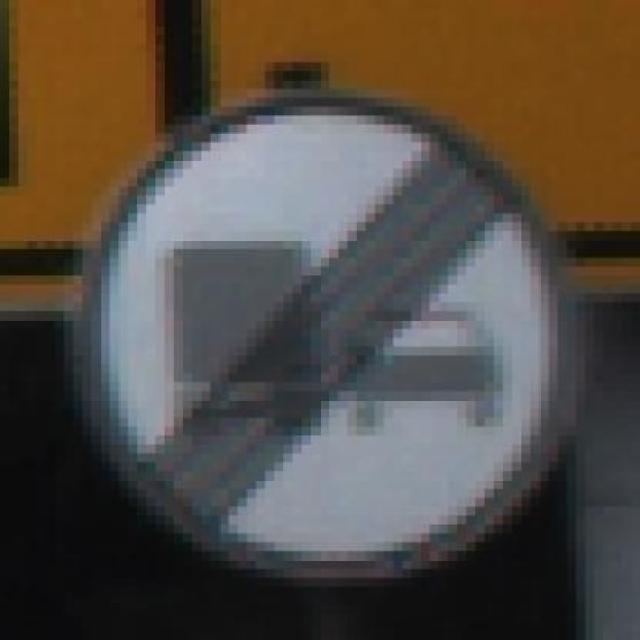Overtaking by trucks is prohibited: (27, 89, 604, 586)
